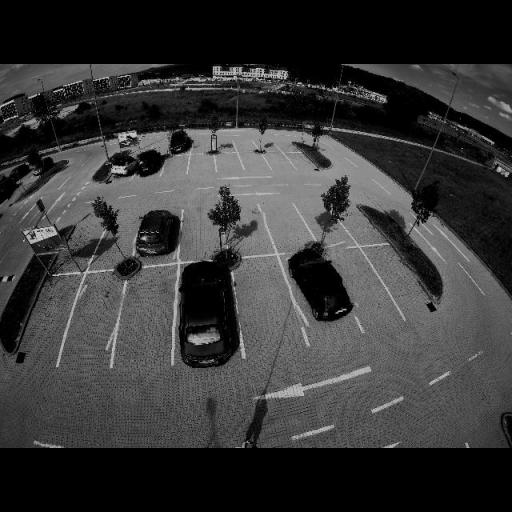busy: (169, 260, 239, 370), (288, 244, 356, 326), (133, 208, 181, 258), (133, 149, 165, 177), (109, 154, 139, 180), (165, 130, 193, 155)
free: (72, 286, 122, 349), (122, 294, 170, 352), (240, 281, 290, 327), (225, 206, 268, 252), (31, 295, 67, 337), (342, 269, 378, 304), (184, 222, 220, 252), (383, 258, 417, 288), (58, 238, 94, 263), (106, 235, 136, 261), (270, 213, 302, 237), (310, 216, 340, 237), (348, 216, 376, 236), (217, 156, 239, 170), (191, 158, 212, 172), (166, 161, 186, 175), (217, 139, 234, 154), (243, 156, 264, 168), (257, 136, 274, 150), (194, 137, 210, 151), (6, 188, 24, 200), (294, 156, 312, 167), (270, 156, 285, 166), (238, 141, 253, 149), (284, 143, 296, 150)
